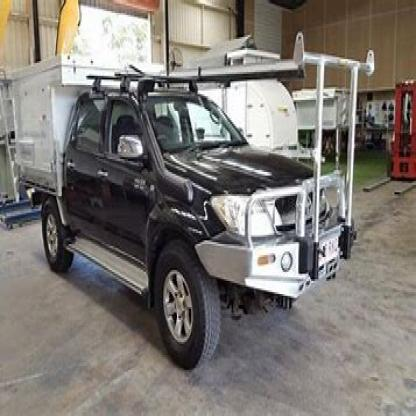light_vehicle: (7, 80, 358, 377)
